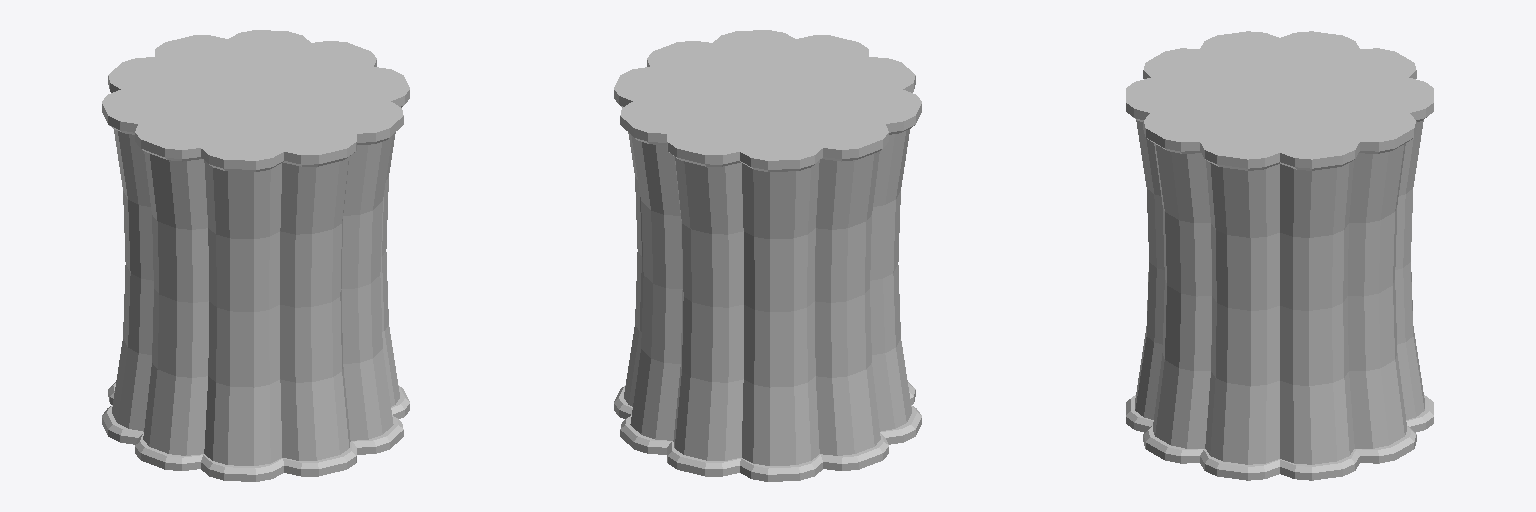
The model's file is pillar-8.obj.
3 views of the same model, side by side, from view 1: azimuth 30°, elevation 25°; view 2: azimuth 150°, elevation 25°; view 3: azimuth 270°, elevation 25° (orthographic).
Visible parts, largest first — view 1: pCube9; view 2: pCube9; view 3: pCube9.
Boxes of the visible parts, x1,y1,x2,y2 form: pCube9: [102, 30, 409, 481]; pCube9: [614, 30, 921, 481]; pCube9: [1126, 31, 1433, 480].
Bounding box in the file's own units: 0.897 × 1.05 × 0.9118.